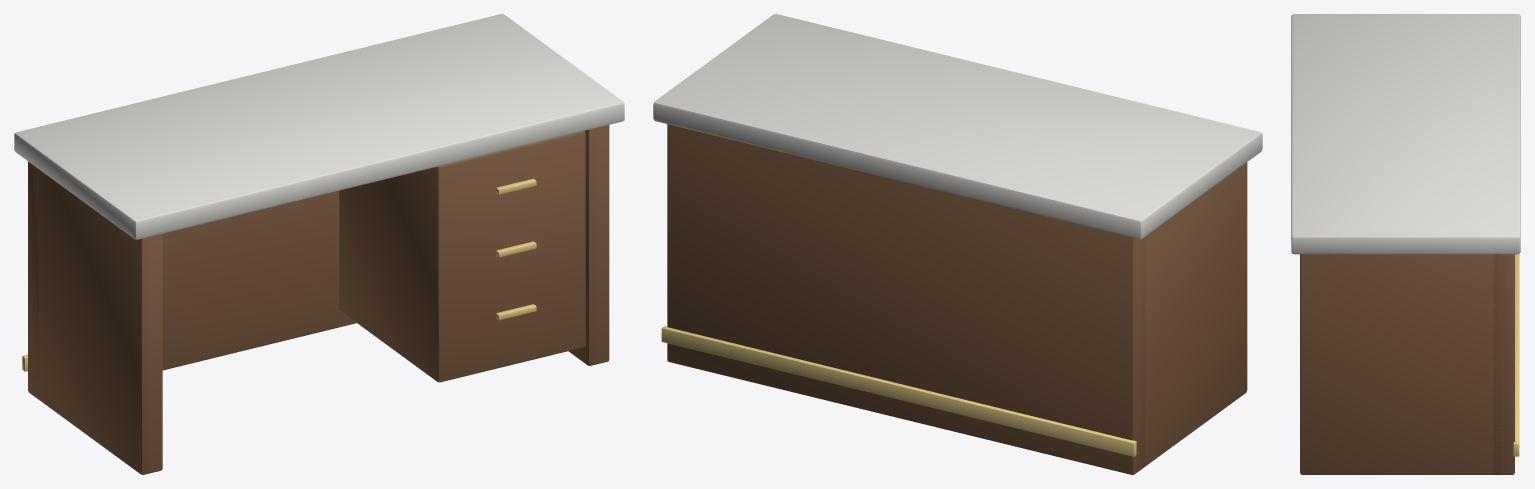
File: hotel_desk.glb
The picture shows the model from 3 angles, left to right: view 1: azimuth 30°, elevation 25°; view 2: azimuth 150°, elevation 25°; view 3: azimuth 270°, elevation 25°; orthographic projection. The views are drawn at different scales.
Parts seen in each view (by area): view 1: HotelDesk_Mesh; view 2: HotelDesk_Mesh; view 3: HotelDesk_Mesh.
Part boxes in pixels (<box>): HotelDesk_Mesh: <box>14,14,624,474</box>; HotelDesk_Mesh: <box>653,14,1262,474</box>; HotelDesk_Mesh: <box>1291,14,1520,474</box>.
Bounding box in the file's own units: 1.8 × 0.915 × 0.78.
